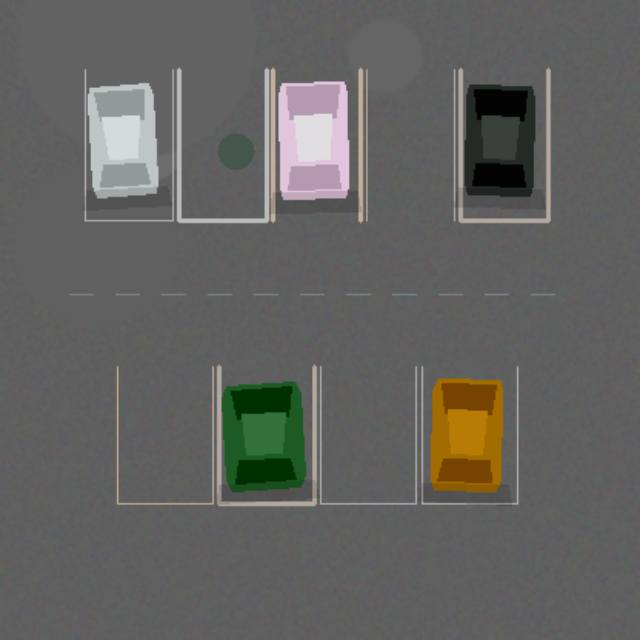space-empty: (178, 69, 266, 220), (366, 69, 454, 220), (117, 366, 212, 503), (320, 366, 415, 503)
space-occupied: (272, 69, 360, 220), (460, 69, 548, 220), (218, 366, 314, 503), (85, 69, 172, 220), (422, 366, 517, 503)
